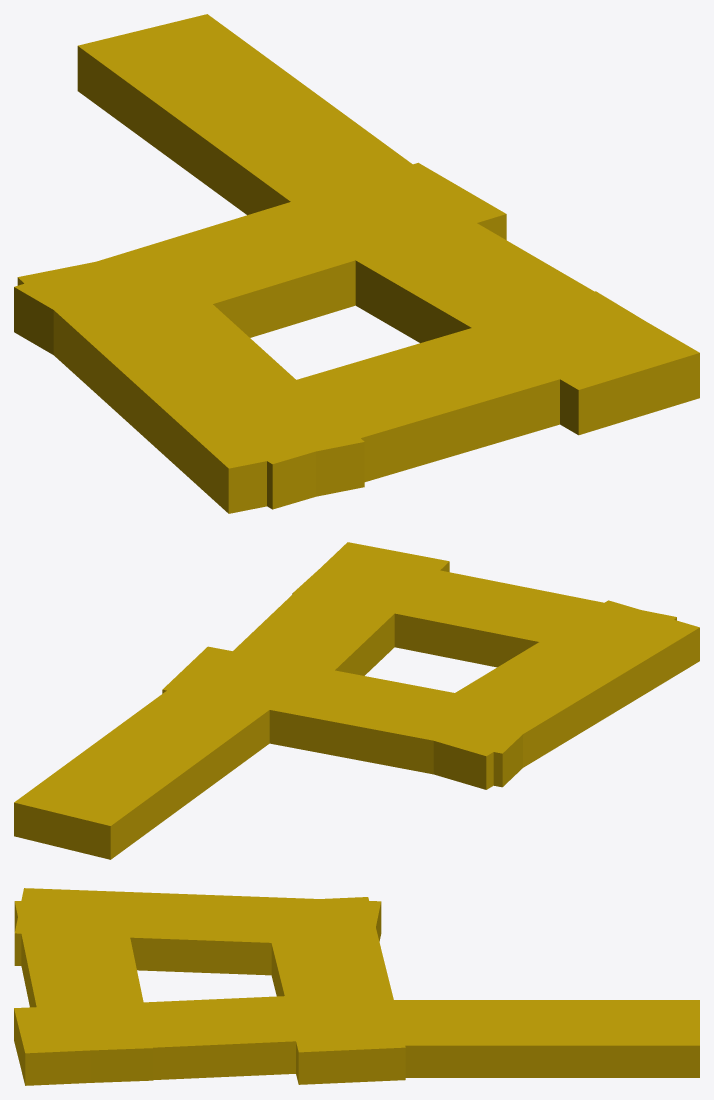
Rendered from Yellow_Key.glb.
3 renders of one model, top to bottom at view 1: azimuth 30°, elevation 25°; view 2: azimuth 150°, elevation 25°; view 3: azimuth 270°, elevation 25°, orthographic. The views are drawn at different scales.
Parts seen in each view (by area): view 1: Cube copy (×2), Cube, Cube copy copy copy, Cube copy copy; view 2: Cube copy (×2), Cube copy copy copy, Cube, Cube copy copy; view 3: Cube copy (×2), Cube copy copy copy, Cube, Cube copy copy.
Part boxes in pixels (<box>): Cube copy (×2): <box>14,162,699,435</box>; Cube: <box>17,257,364,513</box>; Cube copy copy copy: <box>77,14,456,228</box>; Cube copy copy: <box>187,291,635,509</box>; Cube copy (×2): <box>162,542,522,787</box>; Cube copy copy copy: <box>14,666,296,859</box>; Cube: <box>395,600,699,789</box>; Cube copy copy: <box>292,550,676,667</box>; Cube copy (×2): <box>14,897,405,1085</box>; Cube copy copy copy: <box>341,1000,699,1077</box>; Cube: <box>14,888,381,975</box>; Cube copy copy: <box>14,897,152,1082</box>.
Bounding box in the file's own units: 0.5452 × 0.05 × 0.9565.
